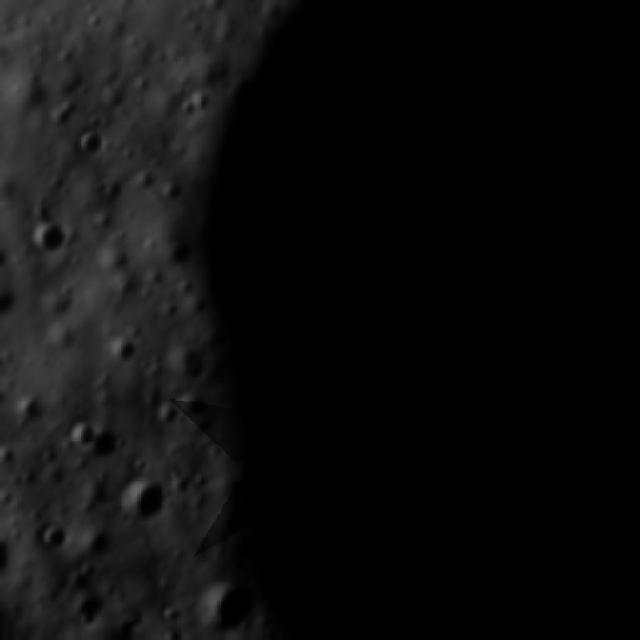crater: (207, 583, 270, 640), (119, 479, 173, 532), (72, 595, 120, 633), (88, 427, 128, 468), (31, 223, 71, 263), (59, 420, 102, 457), (82, 530, 121, 567), (74, 128, 114, 163), (36, 524, 75, 558), (46, 101, 86, 132), (110, 335, 145, 370), (16, 398, 52, 431), (160, 608, 198, 629), (0, 288, 20, 324), (0, 538, 11, 588), (0, 448, 18, 474), (0, 386, 12, 418), (0, 246, 11, 280)
